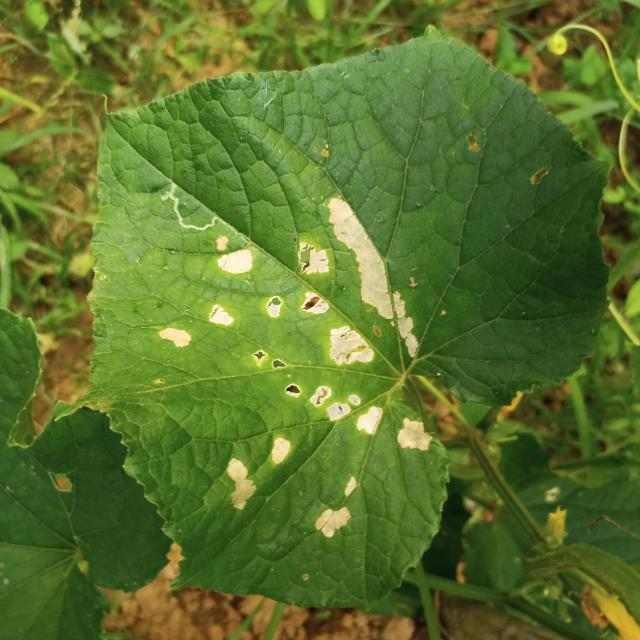disease_cucumber: (256, 199, 435, 453), (153, 232, 254, 354), (224, 433, 293, 515), (314, 475, 361, 544)
